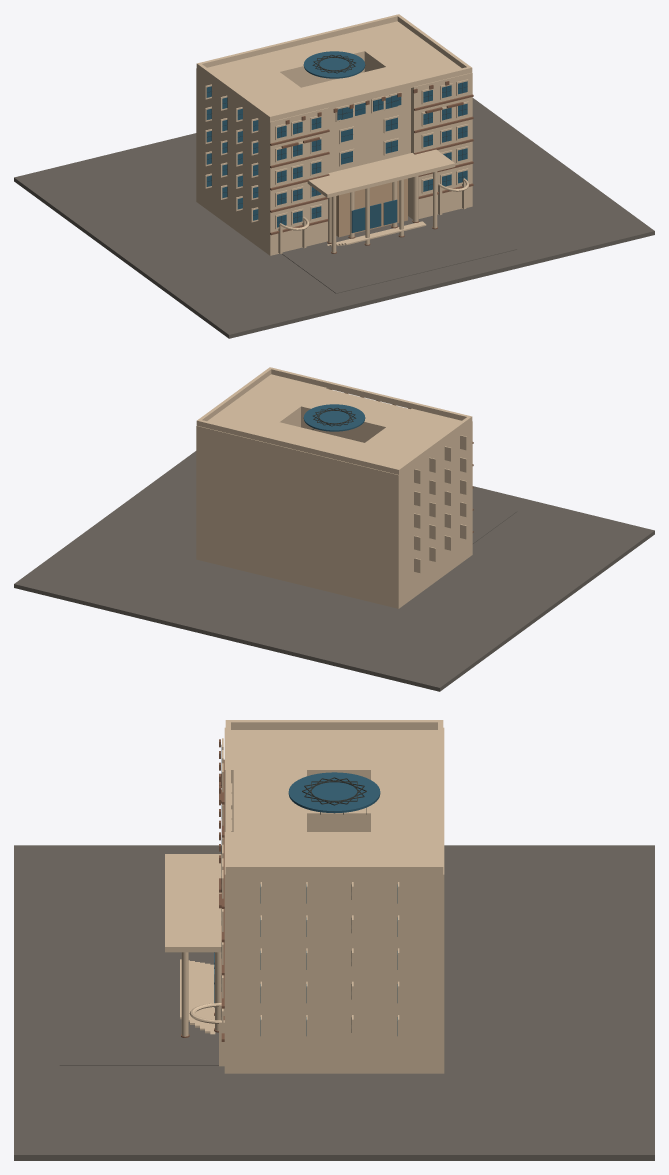
File: building_approximation.glb
3 views of the same model, one above another, from view 1: azimuth 30°, elevation 25°; view 2: azimuth 150°, elevation 25°; view 3: azimuth 270°, elevation 25° (orthographic). The views are drawn at different scales.
Parts seen in each view (by area): view 1: Ground, Left building wing, Entrance pavement, Right building wing, Central front mass, Entrance canopy, Rear building block, Entrance recess, Roof parapet front, Roof parapet rear, Circular atrium skylight, Roof parapet left (+1 smaller); view 2: Ground, Left building wing, Rear building block, Right building wing, Central front mass, Roof parapet front, Roof parapet rear, Circular atrium skylight, Entrance pavement, Roof parapet left, Roof parapet right; view 3: Ground, Right building wing, Entrance pavement, Left building wing, Entrance canopy, Central front mass, Rear building block, Circular atrium skylight, Roof parapet right, Roof parapet left, Roof parapet front, Roof parapet rear (+1 smaller).
Part boxes in pixels (x1,y1,x2,y2): Ground: (14, 98, 654, 338); Left building wing: (196, 55, 328, 255); Entrance pavement: (282, 208, 517, 293); Right building wing: (342, 21, 472, 219); Central front mass: (299, 66, 410, 172); Entrance canopy: (307, 149, 455, 197); Rear building block: (257, 35, 364, 87); Entrance recess: (336, 178, 407, 237); Roof parapet front: (268, 66, 472, 122); Roof parapet rear: (196, 14, 400, 69); Circular atrium skylight: (303, 51, 365, 78); Roof parapet left: (198, 63, 270, 121); Ground: (14, 451, 654, 691); Left building wing: (340, 408, 472, 608); Rear building block: (255, 422, 364, 594); Right building wing: (196, 374, 328, 573); Central front mass: (299, 388, 412, 442); Roof parapet front: (268, 367, 472, 422); Roof parapet rear: (196, 419, 400, 475); Circular atrium skylight: (303, 404, 365, 431); Entrance pavement: (472, 500, 517, 543); Roof parapet left: (397, 417, 470, 474); Roof parapet right: (199, 368, 271, 421); Ground: (14, 845, 654, 1160); Right building wing: (224, 832, 444, 1073); Entrance pavement: (59, 933, 218, 1065); Left building wing: (224, 727, 444, 831); Entrance canopy: (165, 854, 221, 952); Central front mass: (233, 770, 306, 833); Rear building block: (371, 770, 444, 831); Circular atrium skylight: (288, 772, 380, 813); Roof parapet right: (229, 865, 439, 875); Roof parapet left: (231, 720, 439, 729); Roof parapet front: (225, 720, 230, 874); Roof parapet rear: (438, 720, 443, 874).
Size of the model in its own units: 80 by 25.91 by 70.
